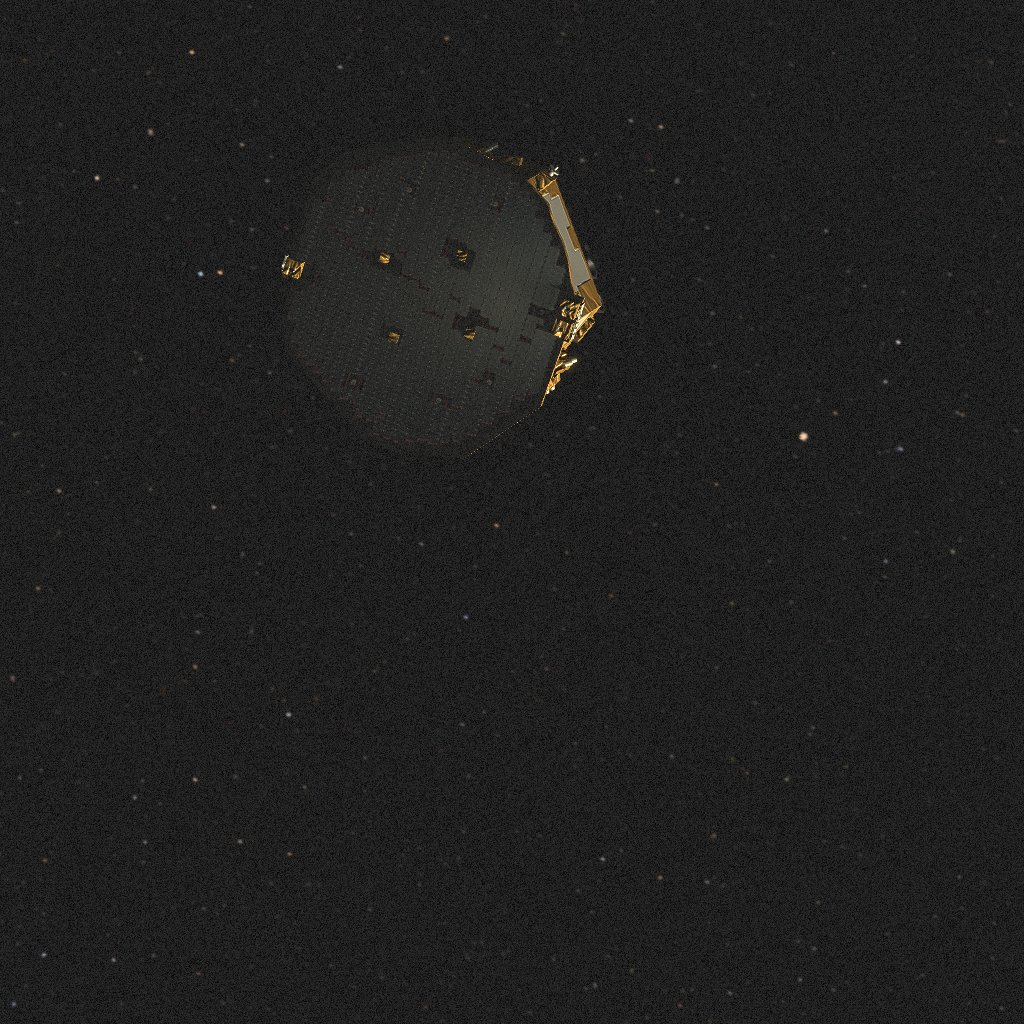lisa_pathfinder: (281, 135, 604, 458)
